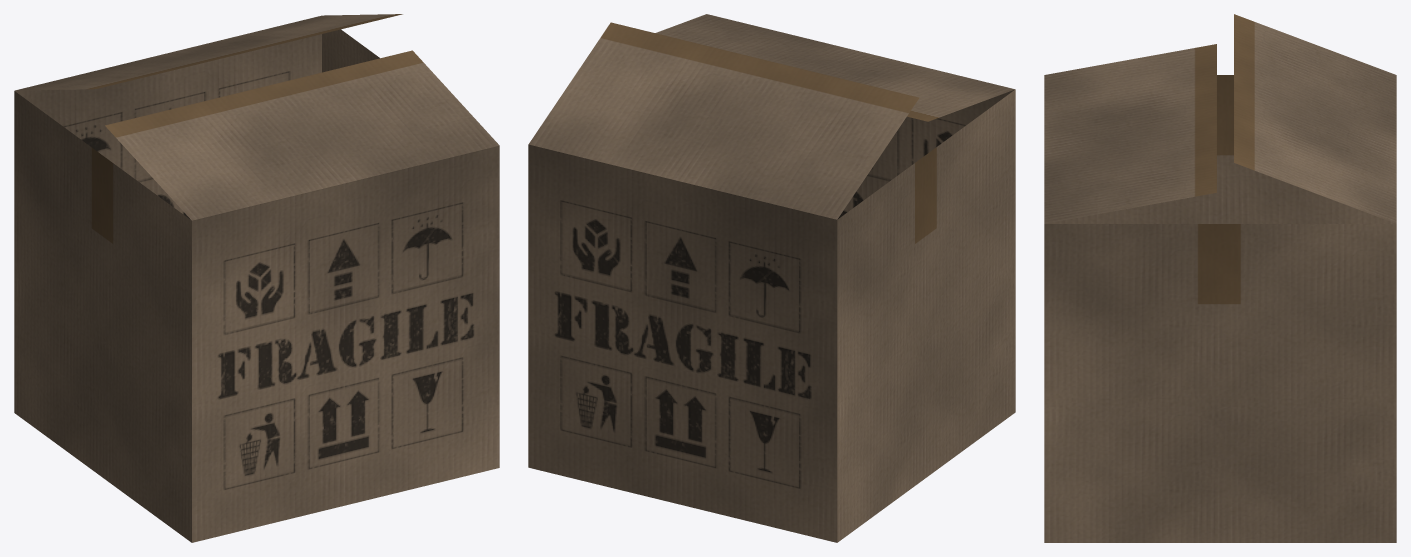
Rendered from Cardboard_Box.FBX.
The picture shows the model from 3 angles, left to right: view 1: azimuth 30°, elevation 25°; view 2: azimuth 150°, elevation 25°; view 3: azimuth 270°, elevation 25°; orthographic projection.
Visible parts, largest first — view 1: Box001; view 2: Box001; view 3: Box001.
Part boxes in pixels (x1=…): Box001: x1=14, y1=14, x2=499, y2=542; Box001: x1=528, y1=14, x2=1015, y2=542; Box001: x1=1044, y1=14, x2=1396, y2=542.
Size of what is drawn, in the model's own units: 26.01 by 30.99 by 26.01.
